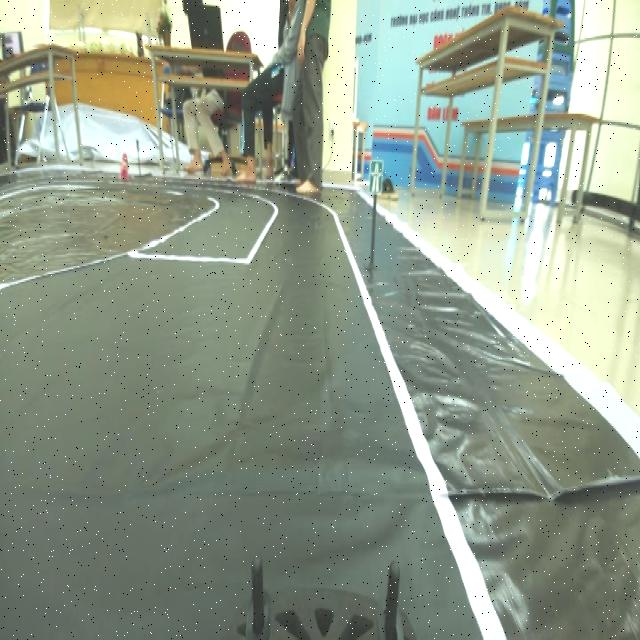highway_entry: (360, 144, 390, 204)
